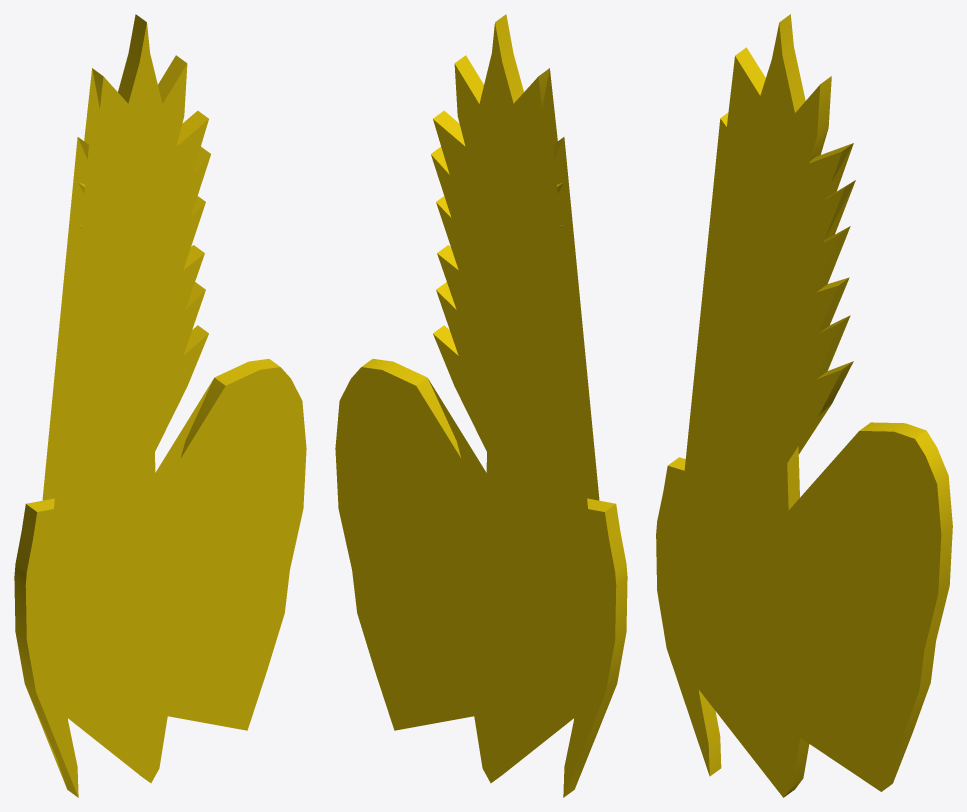
Rendered from blé.fbx.
3 renders of one model, left to right at view 1: azimuth 30°, elevation 25°; view 2: azimuth 150°, elevation 25°; view 3: azimuth 330°, elevation 25°, orthographic.
Visible parts, largest first — view 1: Plane; view 2: Plane; view 3: Plane.
Boxes of the visible parts, x1=… form: Plane: x1=14, y1=14, x2=306, y2=797; Plane: x1=335, y1=14, x2=627, y2=797; Plane: x1=656, y1=14, x2=952, y2=797.
Size of the model in its own units: 160 by 415 by 11.22.
